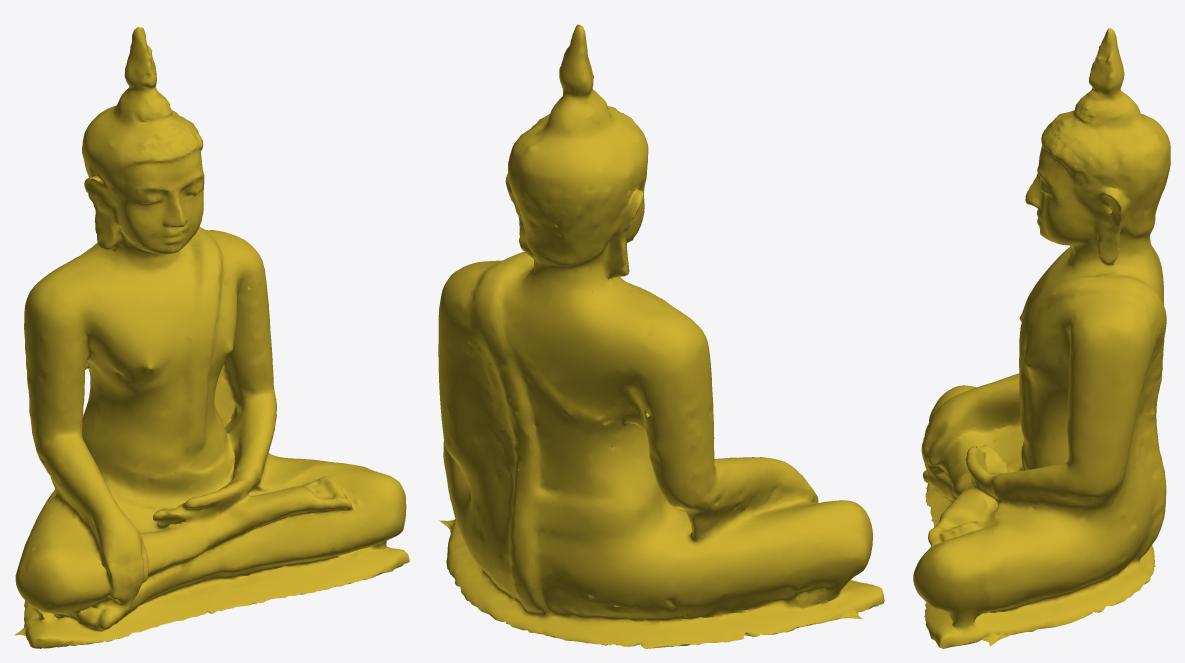
File: md_namo_buddah3.glb
The picture shows the model from 3 angles, left to right: view 1: azimuth 30°, elevation 25°; view 2: azimuth 150°, elevation 25°; view 3: azimuth 270°, elevation 25°; orthographic projection. The views are drawn at different scales.
Visible parts, largest first — view 1: meshNode; view 2: meshNode; view 3: meshNode.
Boxes of the visible parts, bbox=[...] form: meshNode: bbox=[14, 27, 409, 648]; meshNode: bbox=[438, 24, 884, 648]; meshNode: bbox=[913, 28, 1170, 648].
Bounding box in the file's own units: 12.48 × 17.02 × 7.34.
